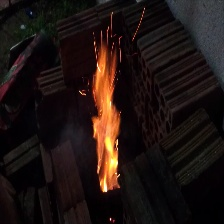fire: (89, 43, 135, 194)
